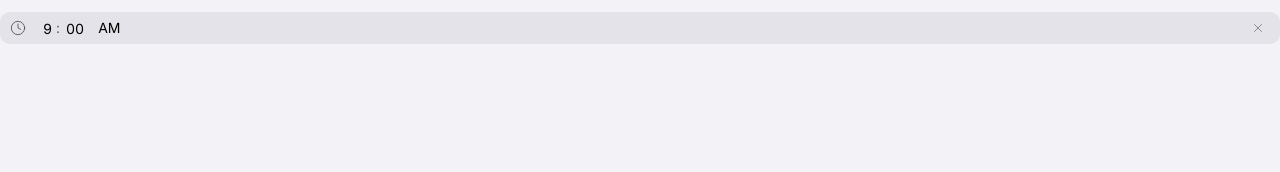
typing › pads a single-digit minute once the field is left
The image size is (1280, 172).
Click the field named "minute": (75, 28) [64,12,86,44]
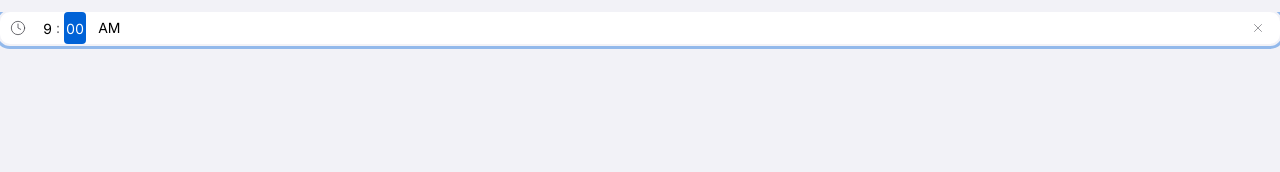
Type keys "5"
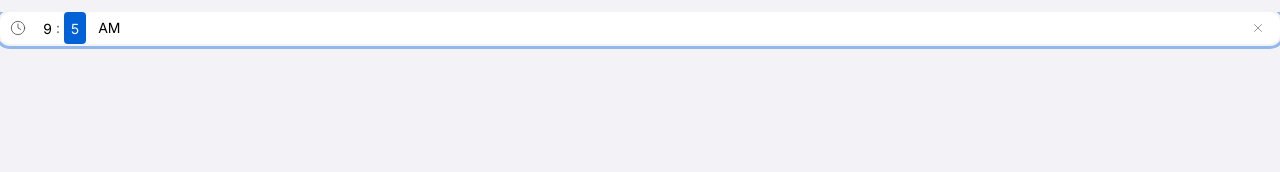
Press Tab
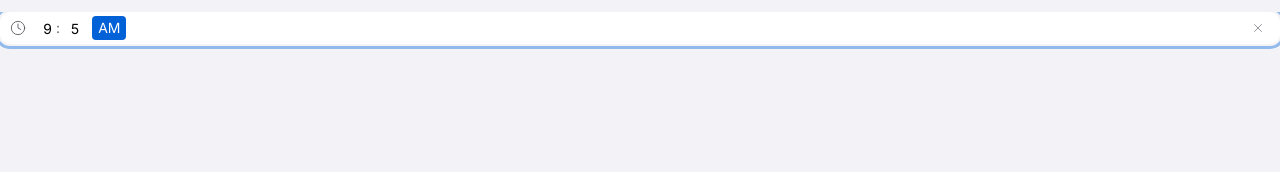
Press Tab
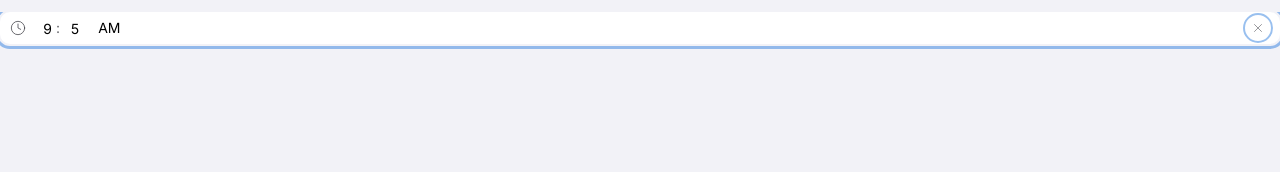
Press Tab
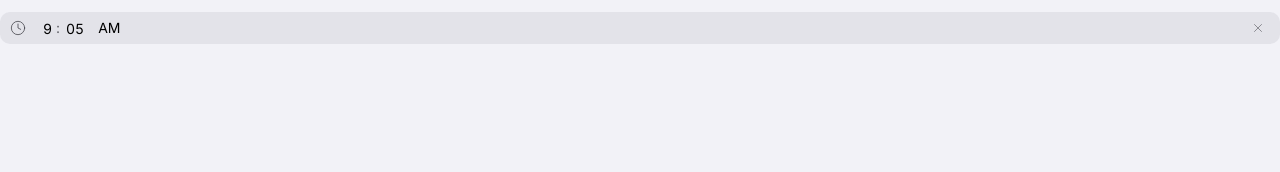
Now the field named "minute" holds "05", box [64,12,86,44]
